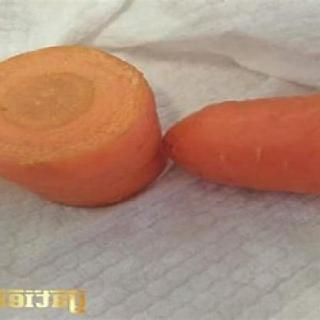carrot: (0, 34, 158, 221), (158, 81, 320, 207)
